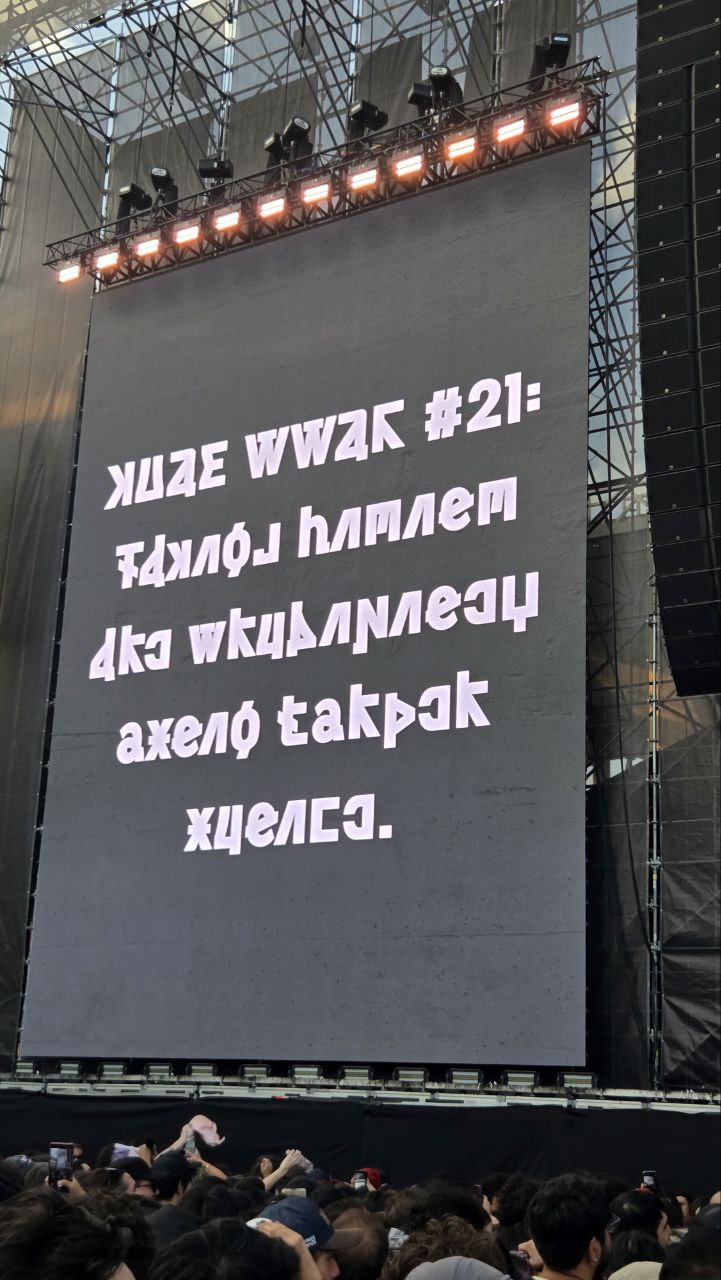1: (498, 369, 535, 428)
2: (463, 375, 505, 434)
A: (332, 406, 375, 466), (166, 445, 203, 502)
F: (110, 537, 147, 596)
M: (102, 459, 139, 516)
O: (133, 452, 170, 509)
P: (242, 423, 292, 481), (289, 414, 339, 471)
R: (368, 398, 410, 457)
T: (197, 438, 234, 496)
a: (84, 624, 119, 685), (139, 531, 172, 592)
b: (354, 592, 390, 655)
c: (307, 792, 342, 846)
d: (499, 570, 541, 636)
e: (461, 575, 500, 627), (340, 792, 377, 846), (416, 681, 453, 733), (144, 625, 174, 675)
f: (274, 691, 311, 748)
h: (287, 596, 319, 659)
i: (329, 499, 366, 559), (400, 490, 441, 540), (389, 587, 426, 638), (273, 796, 309, 848), (319, 596, 351, 649), (198, 709, 230, 758), (195, 532, 224, 580)
l: (230, 698, 261, 761), (221, 519, 252, 580)
m: (165, 537, 195, 589)
n: (181, 805, 216, 854), (144, 715, 175, 763)
o: (212, 802, 247, 858), (255, 610, 289, 666)
p: (186, 615, 228, 667)
r: (453, 667, 496, 732), (346, 682, 383, 740), (225, 606, 259, 662), (115, 623, 147, 680)
s: (477, 473, 520, 528), (363, 496, 404, 545)
t: (437, 484, 479, 535), (424, 580, 463, 633), (242, 798, 278, 850), (171, 712, 202, 760)
th: (381, 690, 417, 751)
u: (310, 696, 346, 744), (116, 719, 147, 767)
v: (297, 502, 330, 557)
y: (251, 519, 282, 572)
